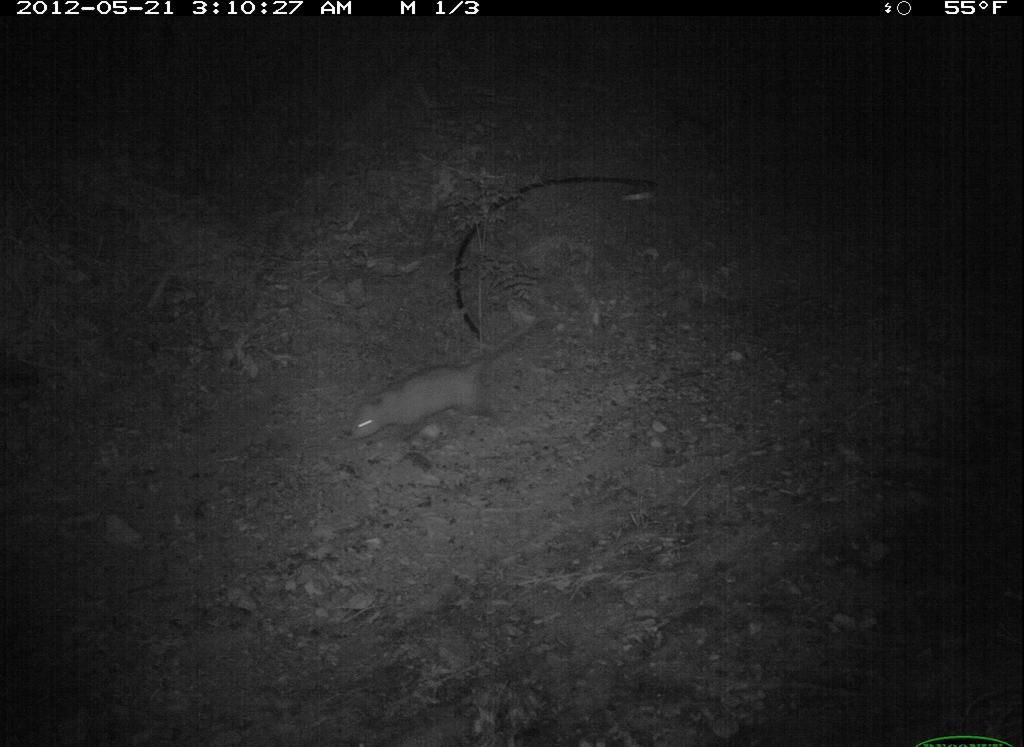opossum: (338, 321, 551, 446)
